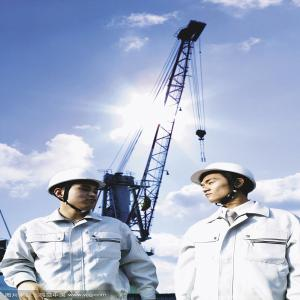white: (192, 163, 260, 209), (49, 170, 106, 215)
